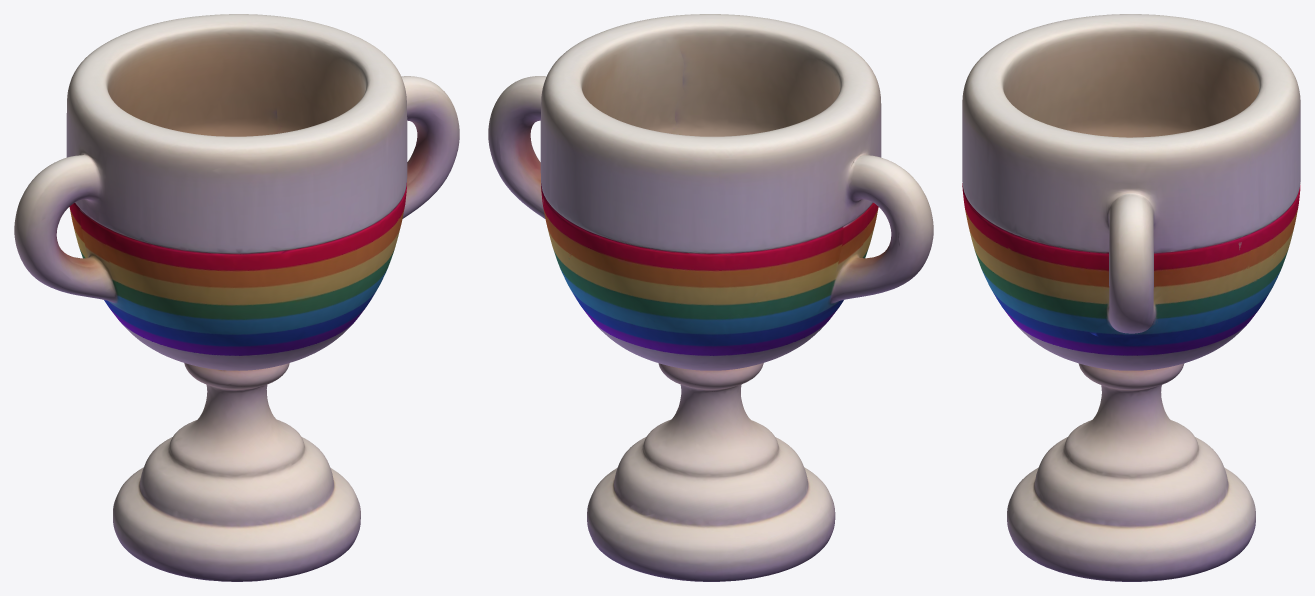
3 renders of one model, left to right at view 1: azimuth 30°, elevation 25°; view 2: azimuth 150°, elevation 25°; view 3: azimuth 270°, elevation 25°, orthographic.
Parts seen in each view (by area): view 1: node_0; view 2: node_0; view 3: node_0.
Boxes of the visible parts, x1,y1,x2,y2 form: node_0: (14,14,459,581); node_0: (488,14,933,581); node_0: (962,14,1300,581).
Size of the model in its own units: 1.01 by 1 by 0.6762.
1 material, 1 textured.
